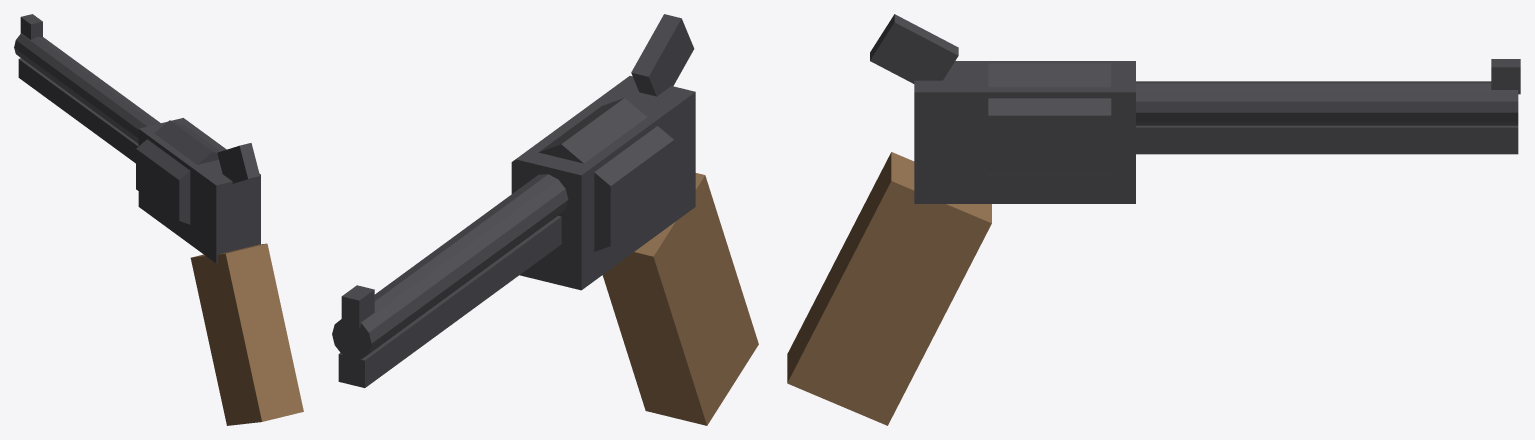
The model's file is revolver.glb.
The picture shows the model from 3 angles, left to right: view 1: azimuth 30°, elevation 25°; view 2: azimuth 150°, elevation 25°; view 3: azimuth 270°, elevation 25°; orthographic projection. The views are drawn at different scales.
Visible parts, largest first — view 1: Revolver; view 2: Revolver; view 3: Revolver.
Part boxes in pixels (<box>): Revolver: <box>14,14,303,425</box>; Revolver: <box>332,14,758,425</box>; Revolver: <box>787,14,1520,425</box>.
Size of the model in its own units: 0.045 by 0.176 by 0.2975.
